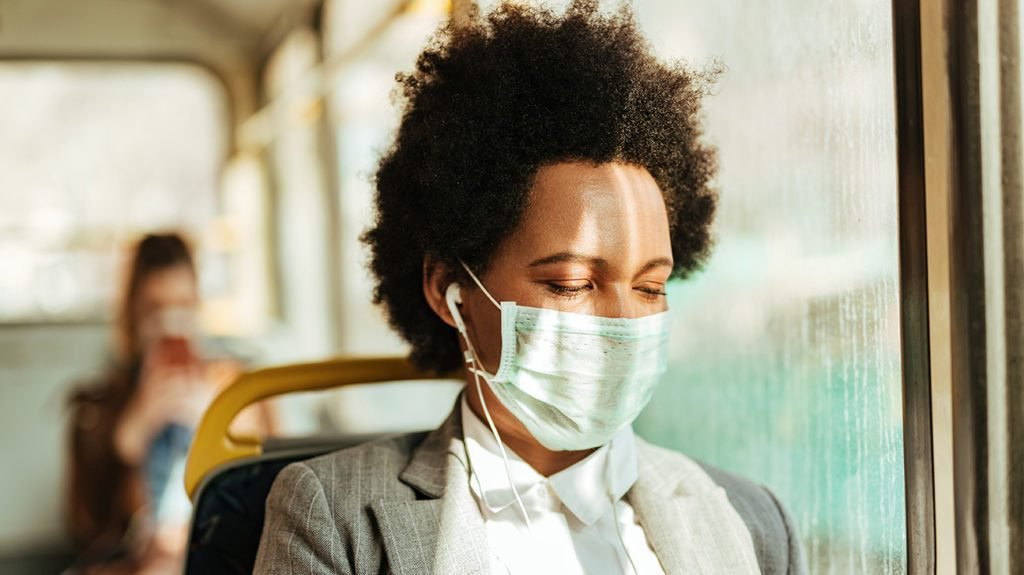mask: (349, 13, 753, 466)
